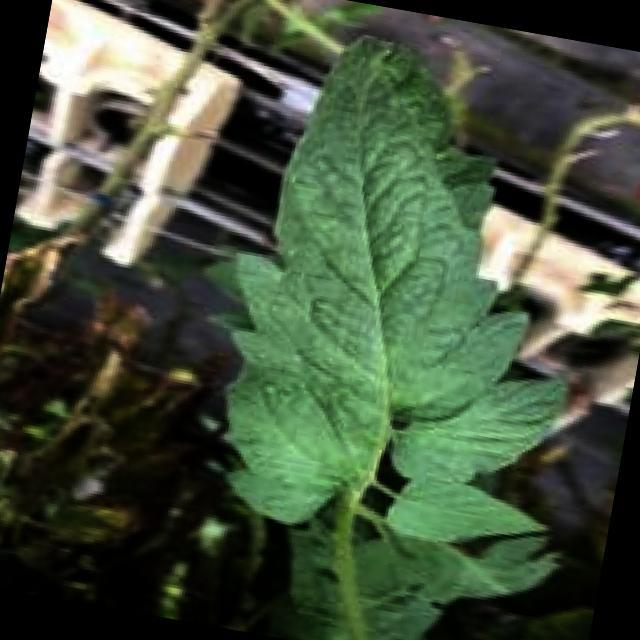Tomato healthy leaf: (224, 33, 566, 544)
